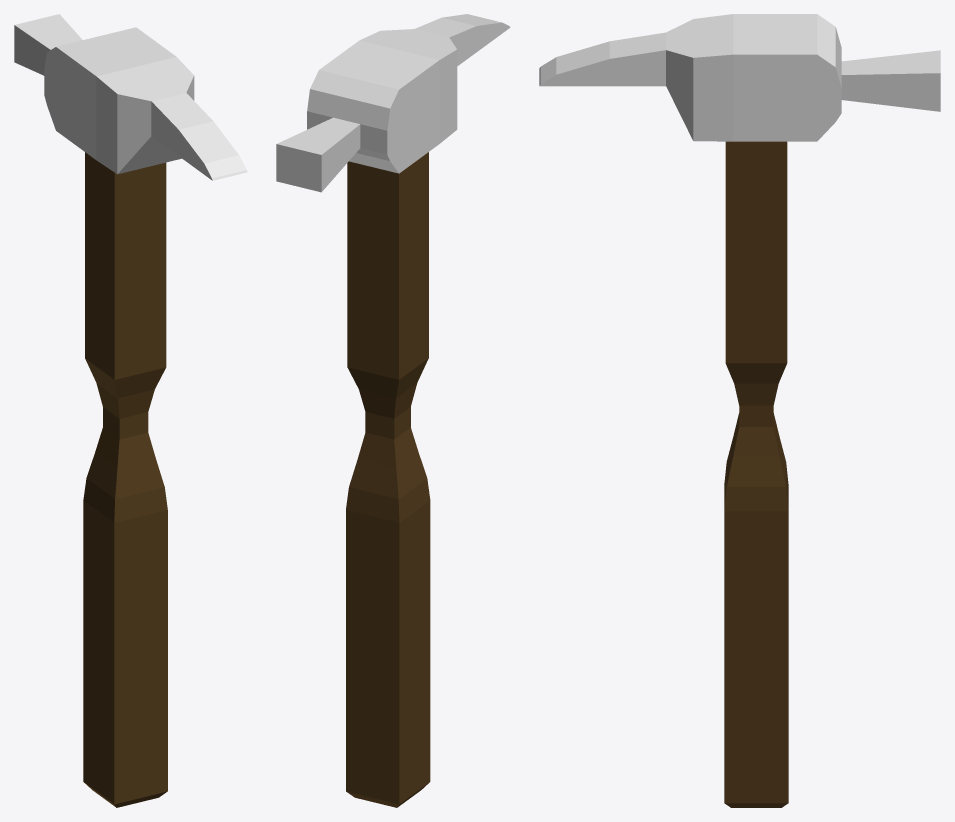
Rendered from hammer_smallhit.glb.
3 renders of one model, left to right at view 1: azimuth 30°, elevation 25°; view 2: azimuth 150°, elevation 25°; view 3: azimuth 270°, elevation 25°, orthographic. The views are drawn at different scales.
Parts seen in each view (by area): view 1: hammer_smallhit; view 2: hammer_smallhit; view 3: hammer_smallhit.
Part boxes in pixels (x1=…): hammer_smallhit: x1=14, y1=14, x2=247, y2=807; hammer_smallhit: x1=276, y1=14, x2=510, y2=807; hammer_smallhit: x1=539, y1=14, x2=940, y2=807.
Size of the model in its own units: 0.0338 by 0.2962 by 0.1413.
